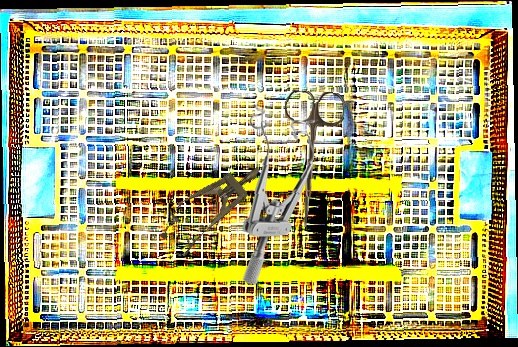Iris Scissors: (278, 90, 346, 229)
Speculum: (236, 101, 322, 286), (151, 150, 274, 262)
